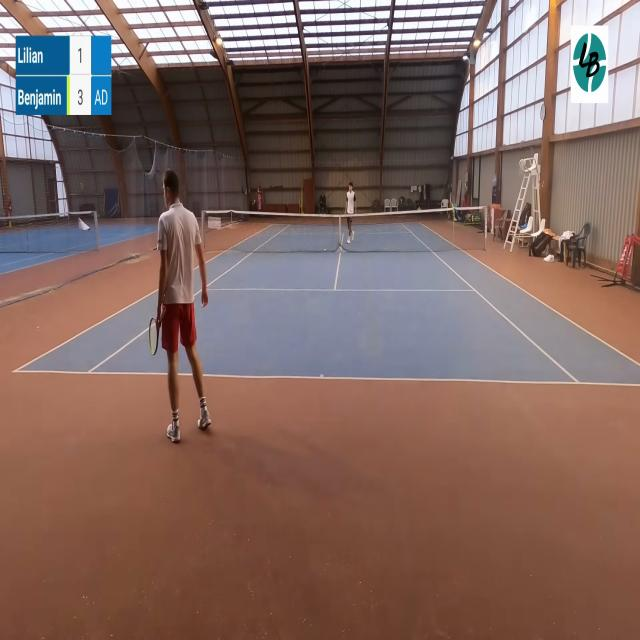ball: (324, 248, 326, 252)
